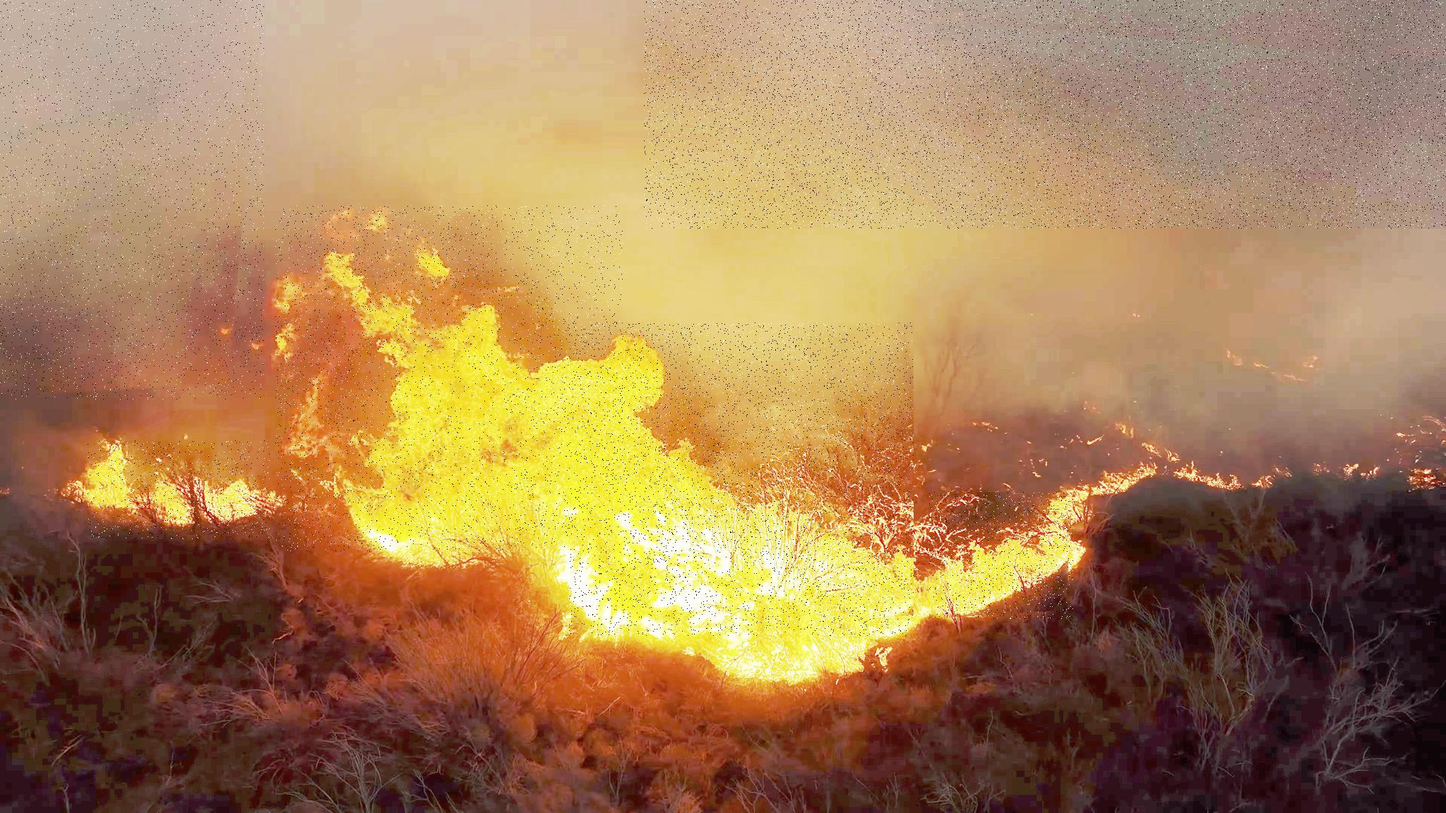fire: (275, 205, 623, 551), (569, 323, 914, 636), (929, 492, 1073, 619), (88, 440, 270, 539)
smoke: (644, 0, 1446, 229), (0, 0, 264, 399)
